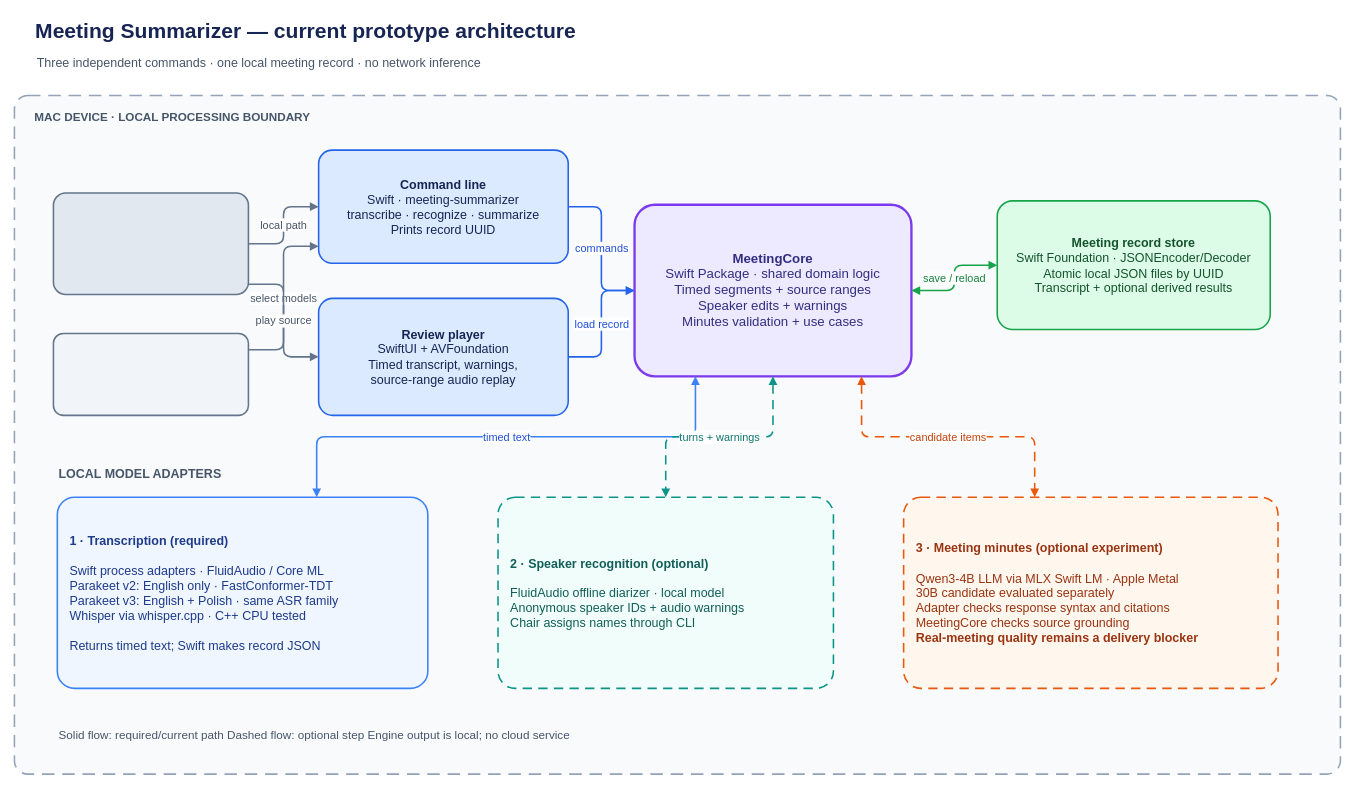
The diagram is 1354 pixels wide and 788 high, and some of its shapes have lost their labels. Here are the shapes that lost their labels. From the top down, the box of each, then its label:
(52, 192, 249, 295): Local meeting audio WAV file on this Mac Source retained for replay
(52, 332, 249, 416): Local settings JSON configuration Backend + model paths
